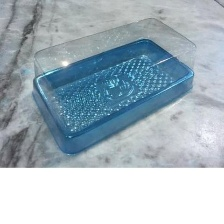plastic_box: (19, 12, 203, 159)
